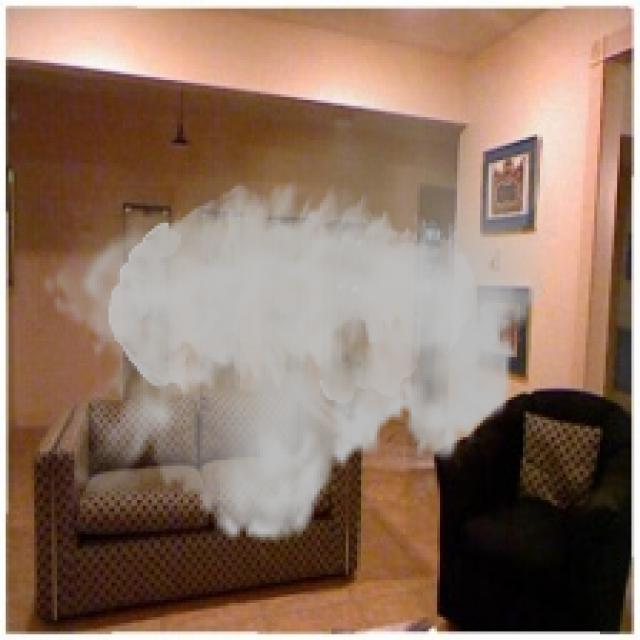smoke: (40, 34, 557, 563)
